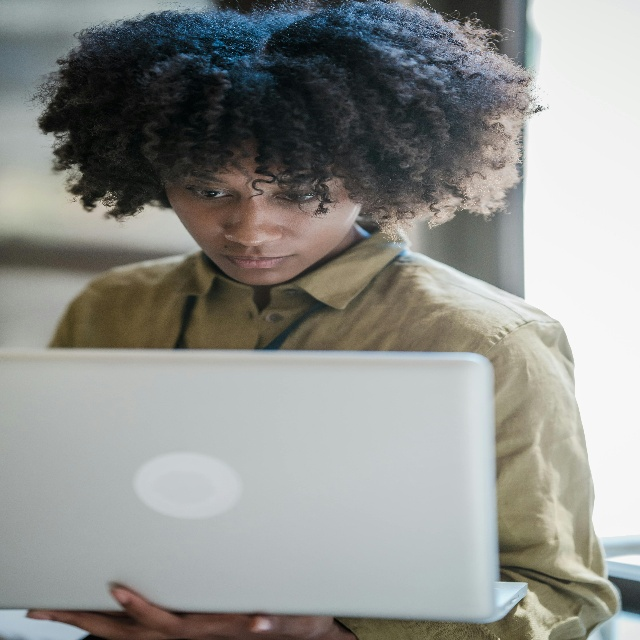Sin_guantes: (25, 589, 337, 640)
